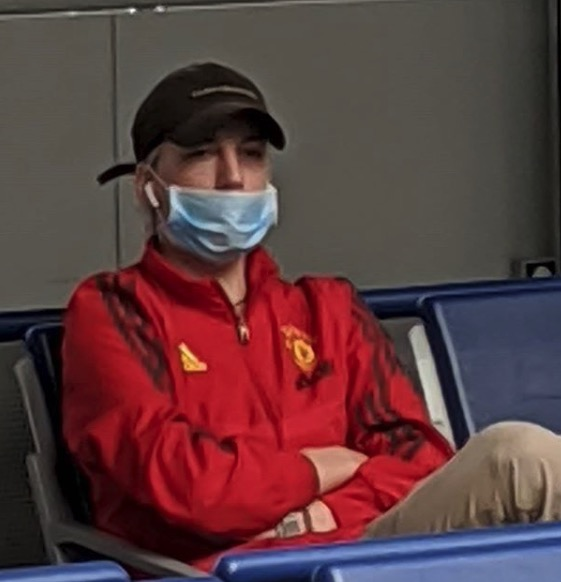mask_weared_incorrect: (161, 146, 283, 244)
